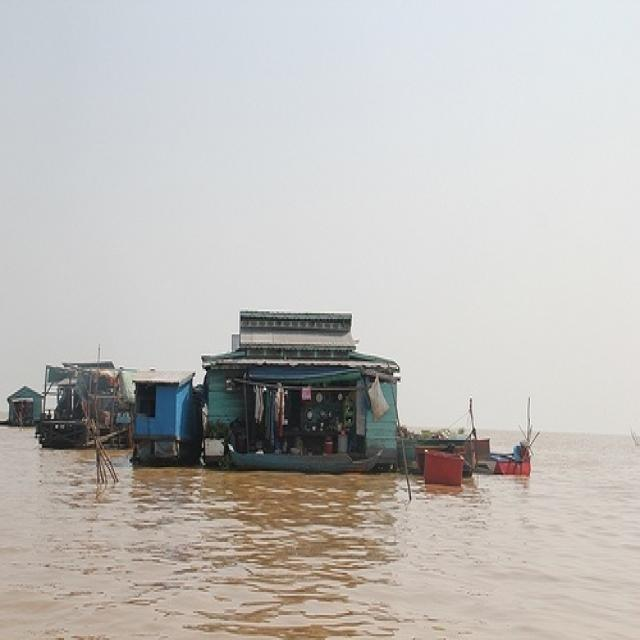Raft: (197, 320, 408, 479), (6, 383, 46, 432)
boat: (38, 398, 117, 452), (224, 450, 385, 476)
